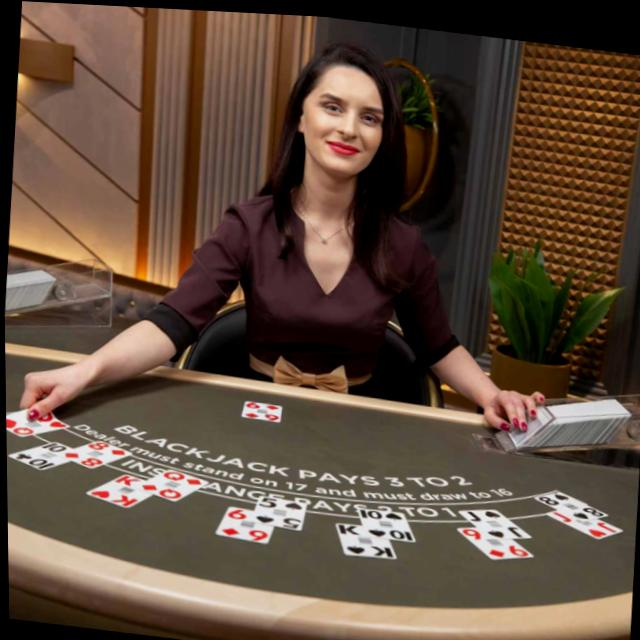Card-10: (7, 441, 71, 469), (357, 505, 413, 536)
Card-5: (249, 492, 305, 527)
Card-6: (214, 503, 272, 540), (239, 397, 280, 419)
Card-8: (532, 485, 606, 515), (60, 439, 130, 467)
Card-9: (455, 522, 531, 554)
Card-J: (545, 503, 621, 532), (457, 504, 530, 533)
Card-K: (84, 472, 150, 506), (334, 519, 394, 554)
Card-Q: (135, 466, 206, 499), (5, 407, 68, 437)
